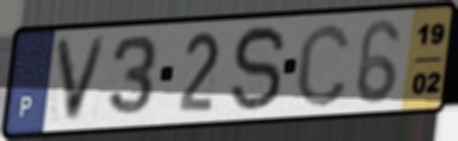2: (176, 29, 223, 114)
3: (106, 34, 163, 120)
6: (353, 16, 403, 108)
C: (292, 19, 353, 110)
S: (228, 22, 289, 116)
V: (51, 33, 111, 126)
